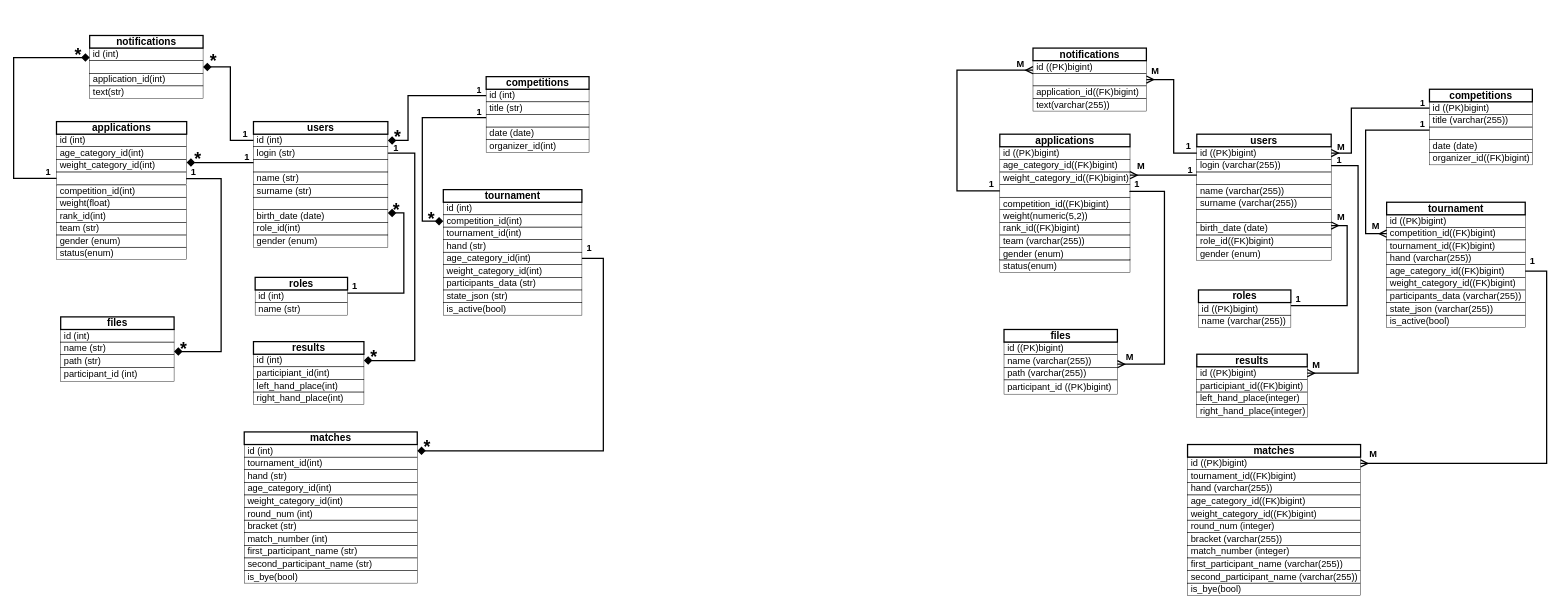
Image size: 1561x603. Some labels were removed from this diagram. The box of each missing label's shape, as (x1, y1, x2, y2) in pixels:
hash_password (str): (253, 159, 388, 172)
hash_password (varchar(255)): (1196, 172, 1331, 185)
patronymic (str): (253, 197, 388, 210)
patronymic (varchar(255)): (1196, 209, 1331, 222)
producer _id((FK)bigint): (1033, 73, 1146, 86)
producer _id(int): (89, 60, 203, 73)
user_id((FK)bigint): (999, 184, 1130, 197)
user_id(int): (56, 172, 187, 185)
venue (str): (486, 114, 589, 127)
venue (varchar(255)): (1429, 127, 1532, 140)
